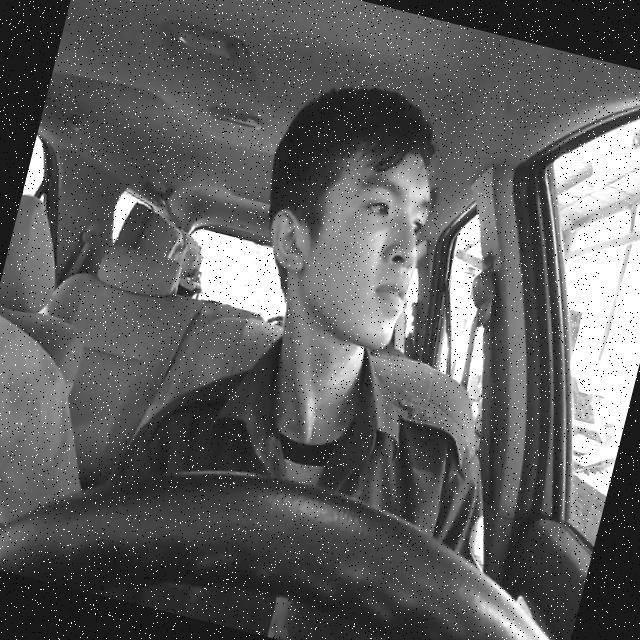seeing_right: (244, 113, 446, 356)
